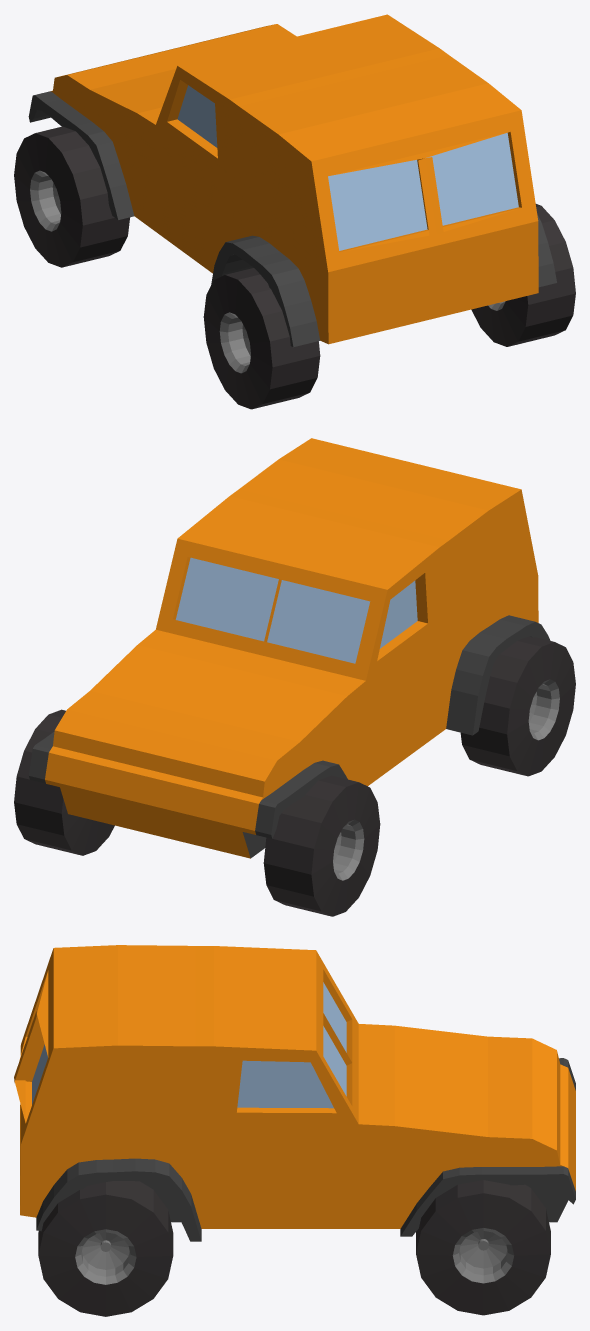
Rendered from idk.fbx.
3 renders of one model, top to bottom at view 1: azimuth 30°, elevation 25°; view 2: azimuth 150°, elevation 25°; view 3: azimuth 270°, elevation 25°, orthographic. The views are drawn at different scales.
Visible parts, largest first — view 1: Cube, Circle.002, Circle.003, Circle.001; view 2: Cube, Circle.002, Circle.003, Circle; view 3: Cube, Circle, Circle.001.
Boxes of the visible parts, box(x1,y1,x2,y2) form: Cube: box(28, 14, 556, 347); Circle.002: box(14, 126, 129, 267); Circle.003: box(203, 268, 320, 409); Circle.001: box(471, 204, 575, 346); Cube: box(28, 438, 550, 858); Circle.002: box(263, 775, 380, 916); Circle.003: box(460, 636, 575, 776); Circle: box(14, 709, 114, 855); Cube: box(14, 945, 575, 1241); Circle: box(416, 1180, 550, 1315); Circle.001: box(38, 1181, 173, 1316).
Size of the model in its own units: 2.3 by 1.81 by 3.7.
